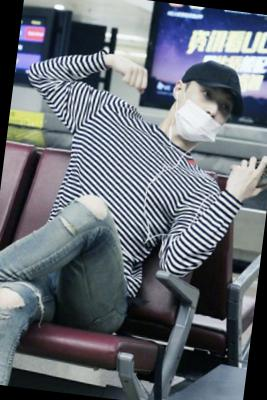mask_weared_incorrect: (175, 82, 235, 144)
